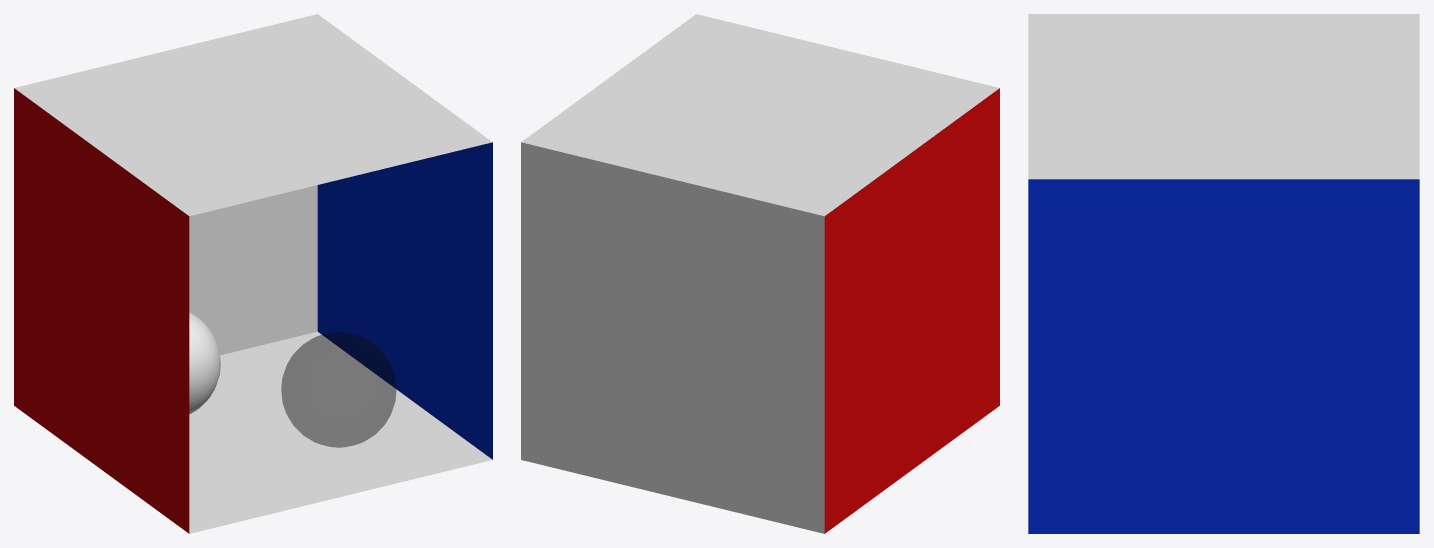
The model's file is cornell_box.gltf.
3 renders of one model, left to right at view 1: azimuth 30°, elevation 25°; view 2: azimuth 150°, elevation 25°; view 3: azimuth 270°, elevation 25°, orthographic. The views are drawn at different scales.
Visible parts, largest first — view 1: Cube, Sphere.001, Sphere; view 2: Cube; view 3: Cube.
Part boxes in pixels (x1,y1,x2,y2): Cube: (14, 14, 492, 533); Sphere.001: (281, 332, 396, 447); Sphere: (189, 312, 220, 414); Cube: (521, 14, 999, 533); Cube: (1028, 14, 1419, 533).
Bounding box in the file's own units: 20 × 20 × 20.
